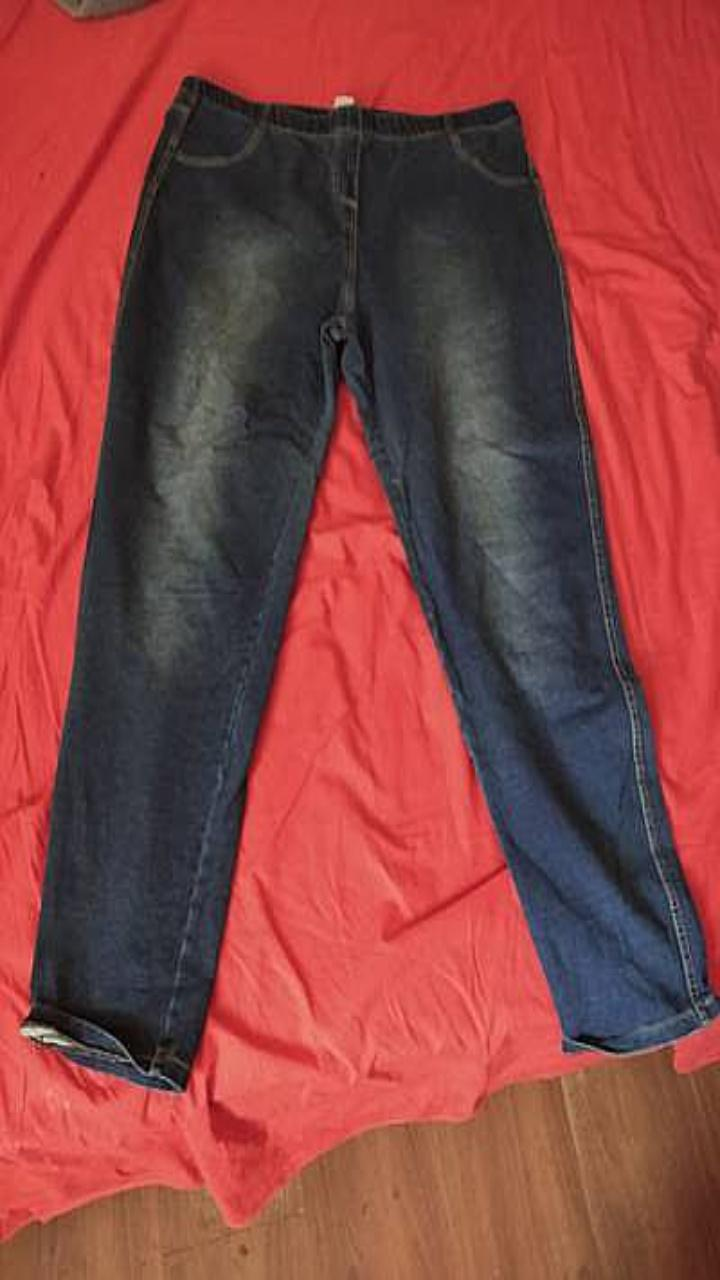Jeans: (21, 76, 719, 1090)
